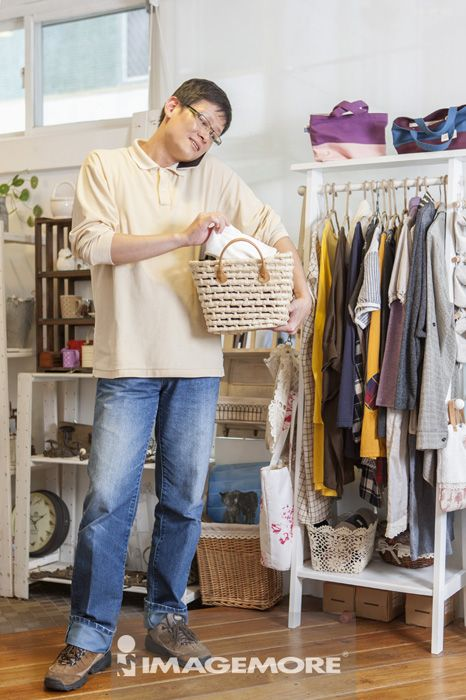talk: (173, 106, 221, 170)
